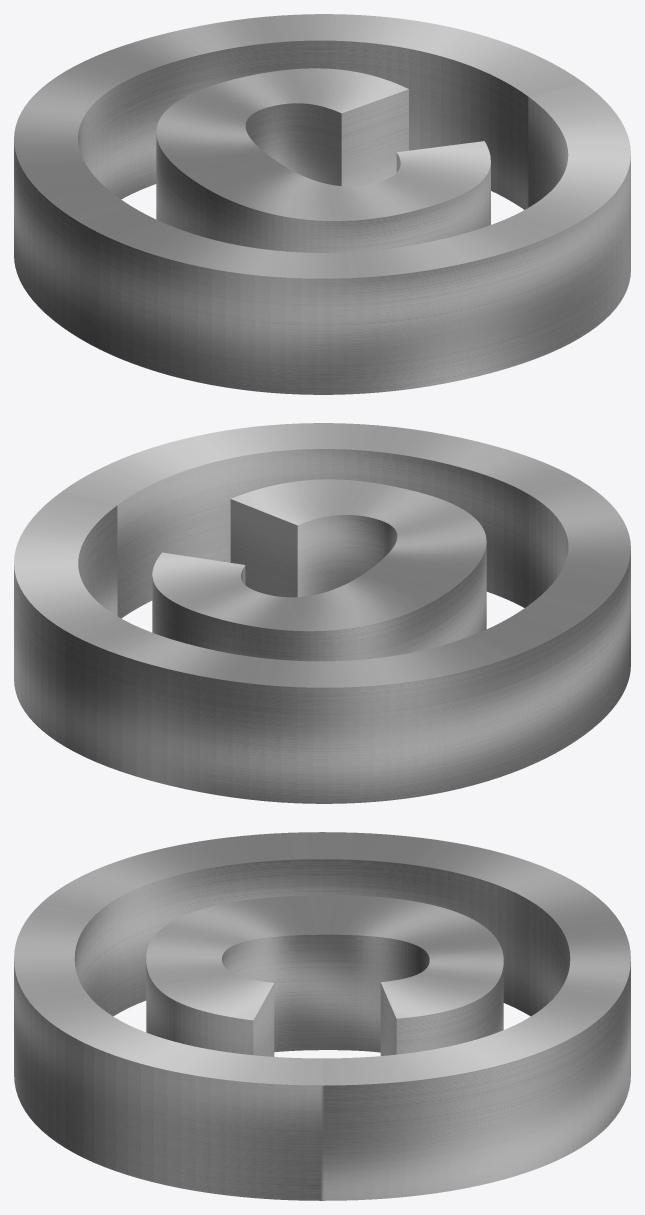
3 renders of one model, top to bottom at view 1: azimuth 30°, elevation 25°; view 2: azimuth 150°, elevation 25°; view 3: azimuth 270°, elevation 25°, orthographic.
Visible parts, largest first — view 1: 000_Path; view 2: 000_Path; view 3: 000_Path.
Boxes of the visible parts, bbox=[...] form: 000_Path: bbox=[14, 14, 630, 394]; 000_Path: bbox=[14, 423, 630, 803]; 000_Path: bbox=[14, 832, 630, 1200].
Size of the model in its own units: 42.39 by 9 by 43.63.
1 material, 1 textured.
